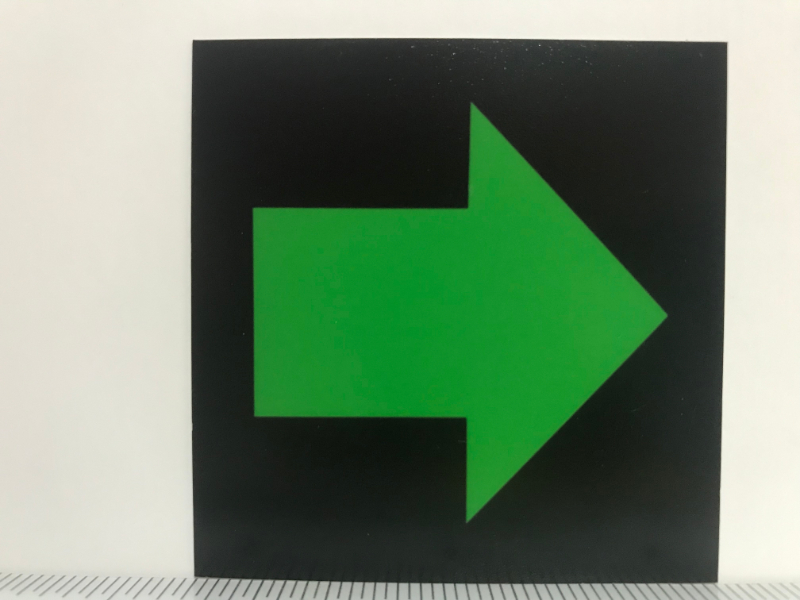RA-3: (197, 41, 719, 579)
